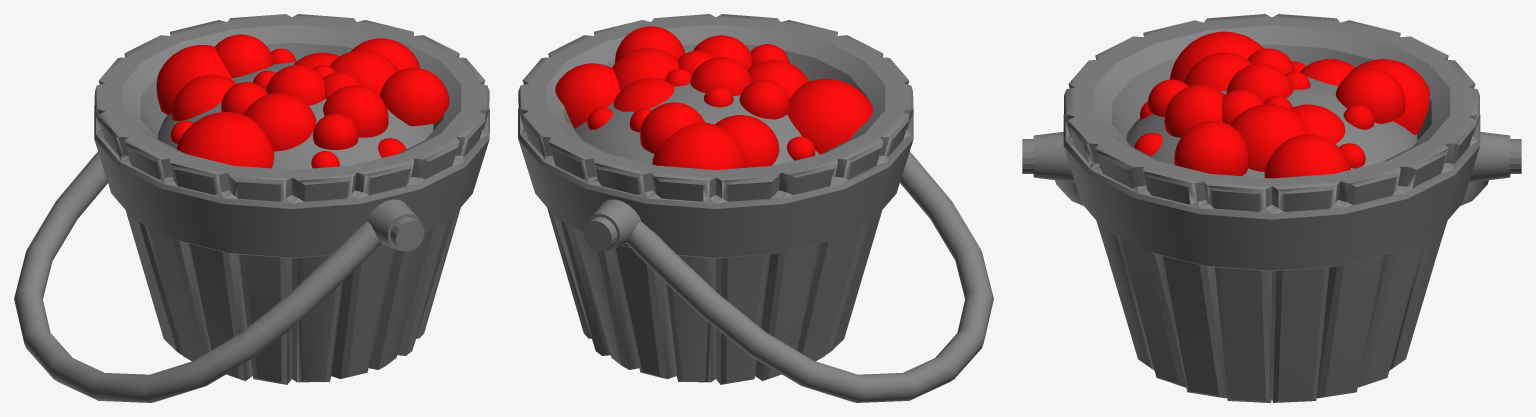
Rendered from LCR_SoapBucket.fbx.
3 views of the same model, side by side, from view 1: azimuth 30°, elevation 25°; view 2: azimuth 150°, elevation 25°; view 3: azimuth 270°, elevation 25° (orthographic). The views are drawn at different scales.
Parts seen in each view (by area): view 1: LCR_SoapBucket; view 2: LCR_SoapBucket; view 3: LCR_SoapBucket.
Boxes of the visible parts, bbox=[...] form: LCR_SoapBucket: bbox=[14, 14, 489, 402]; LCR_SoapBucket: bbox=[518, 14, 993, 402]; LCR_SoapBucket: bbox=[1022, 14, 1521, 402].
Bounding box in the file's own units: 4.71 × 2.9 × 4.67.
